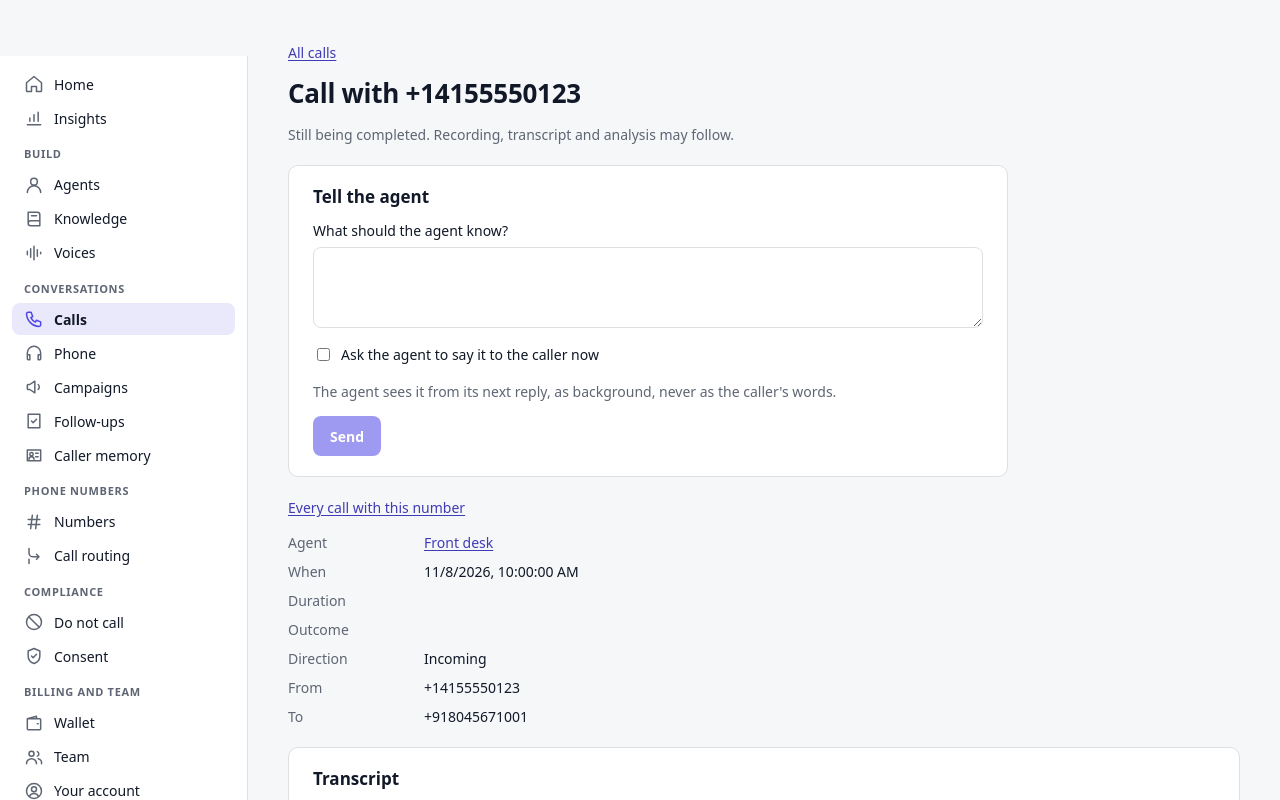
Scenario: telling the agent › shows a 403 refusal as an alert, and keeps the words
The image size is (1280, 800).
Type "She is a returning patient." into the text box labelled "What should the agent know?".
click(648, 288); type("She is a returning patient.")  # box [313,247,983,328]
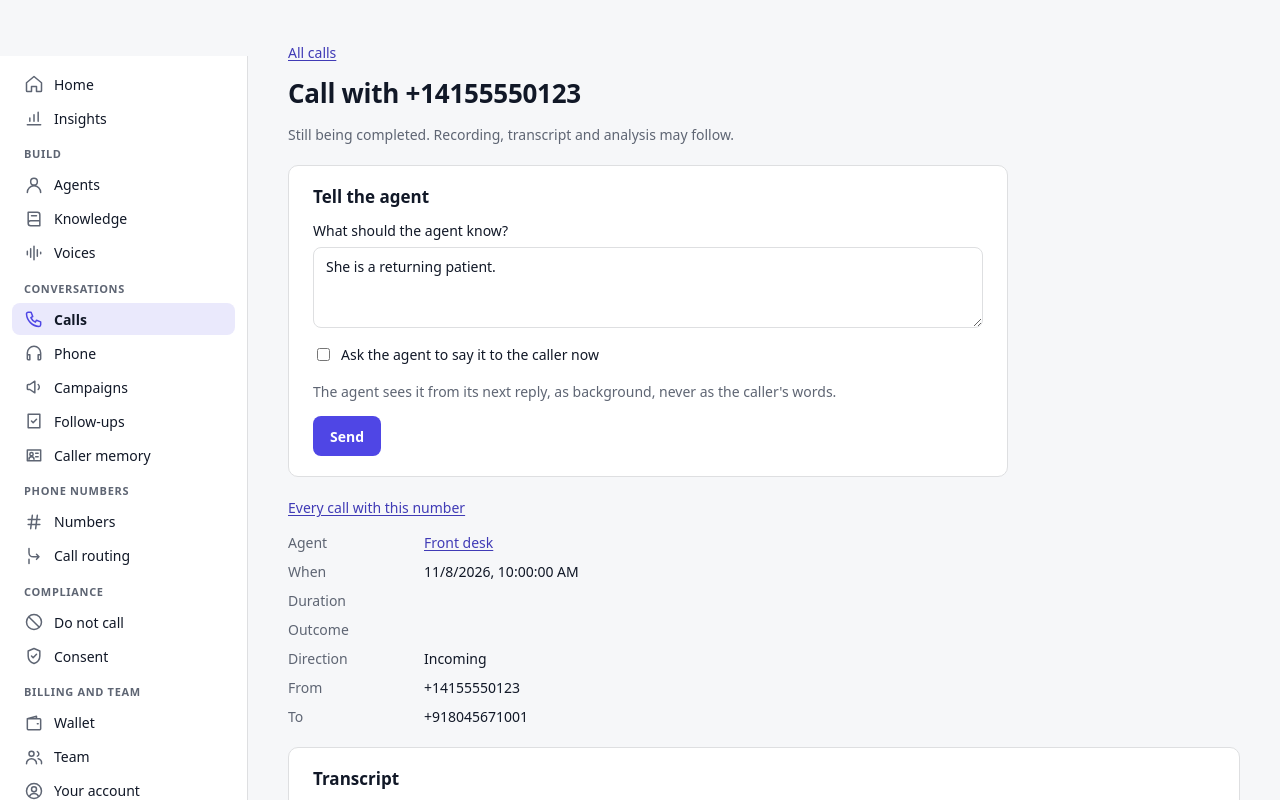
Click the button "Send".
click(347, 436)  # box [313,416,381,456]
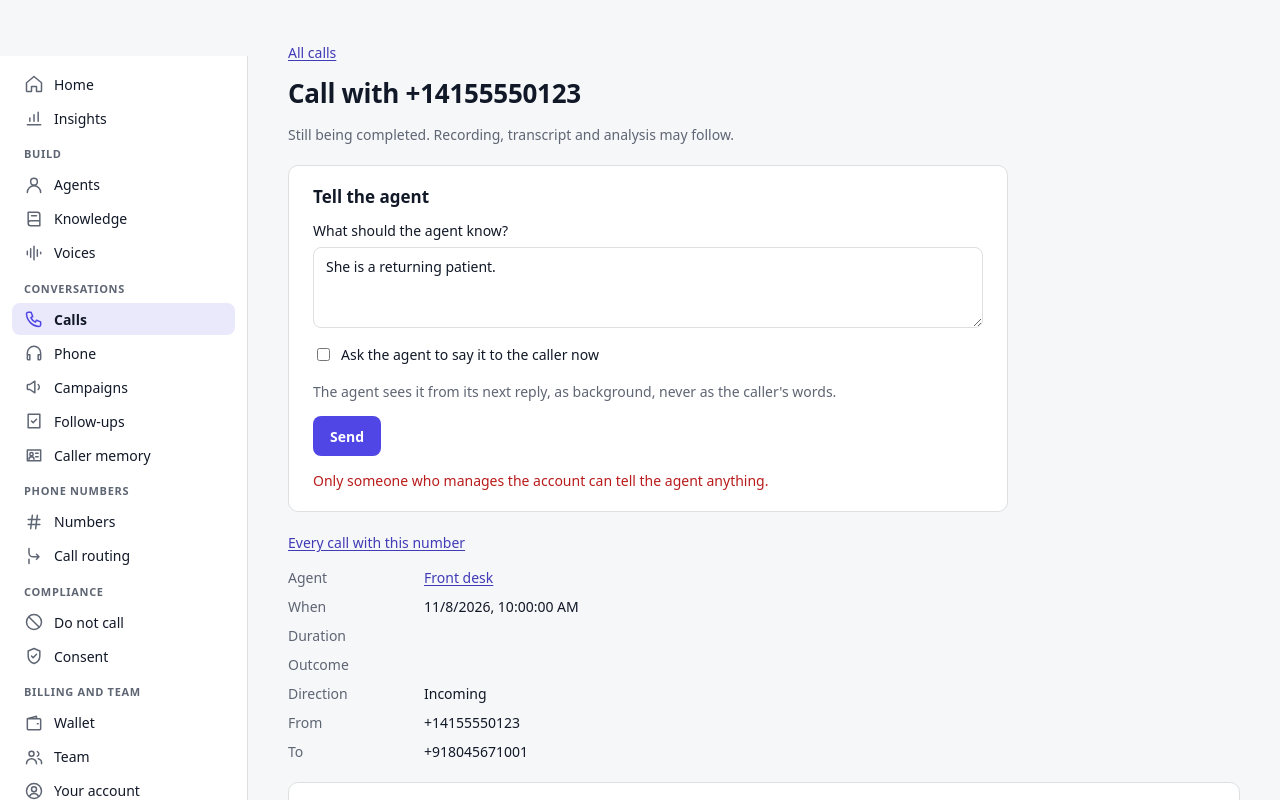
Expected: the message "Only someone who manages the account can tell the agent anything." is shown, [313,471,768,490]
